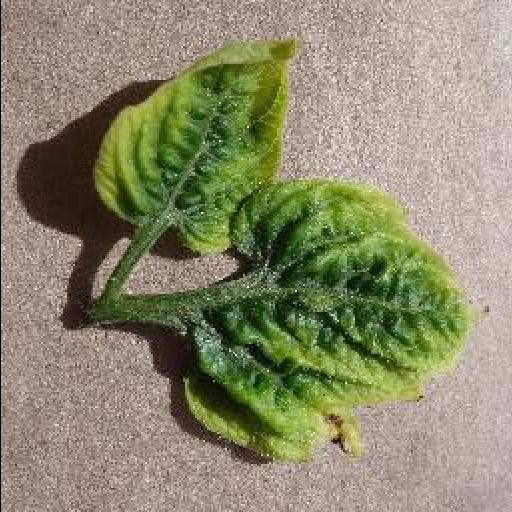disease_tomato: (180, 178, 470, 458), (91, 40, 297, 258)
